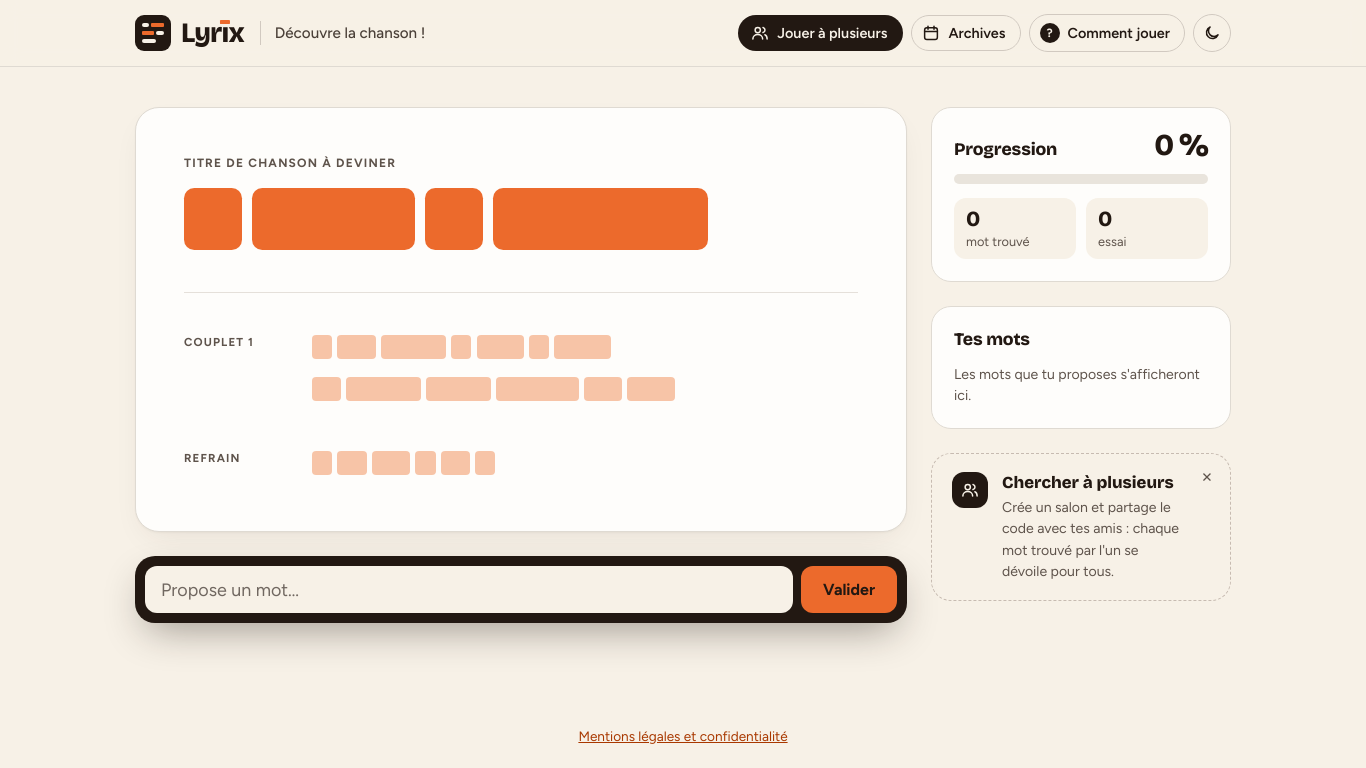
a guess answered with what it changed › reveals the word in place, without asking for the round again
In the field with placeholder "Propose un mot…": (469, 589) [145,566,793,613], type "vent"
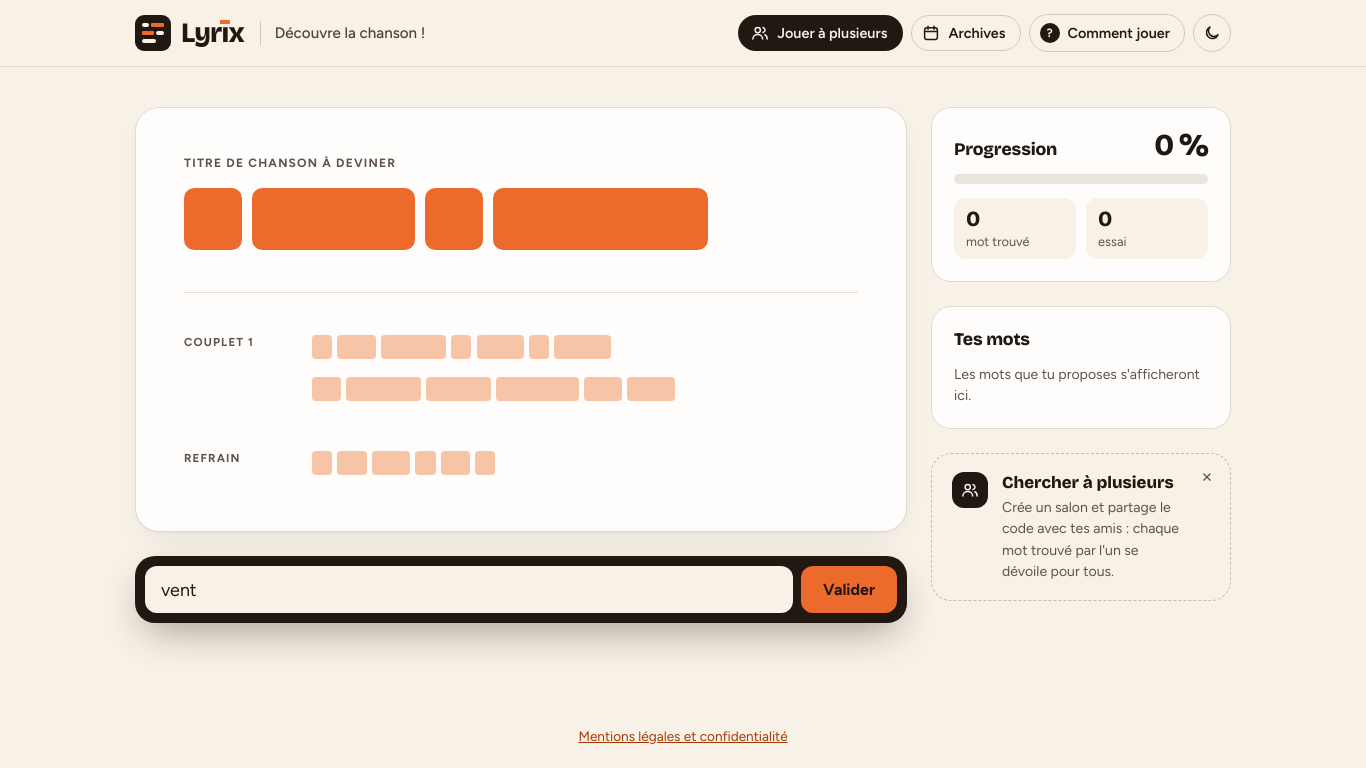
Submit the form from the field with placeholder "Propose un mot…", box [145,566,793,613]
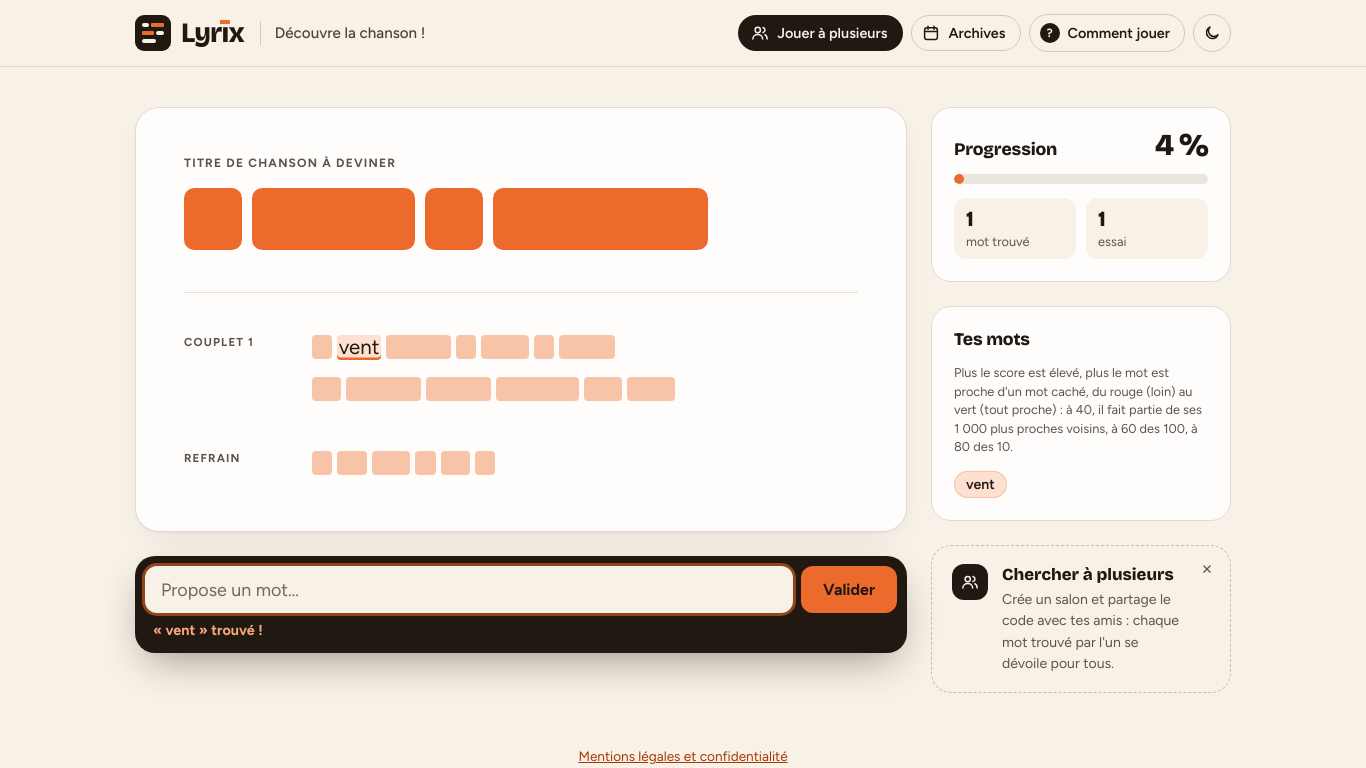
Expected: the text "Couplet 1" is shown, [184,335,254,349]
Expected: the text "vent" next to "Couplet 1" is shown, [339,335,380,359]
